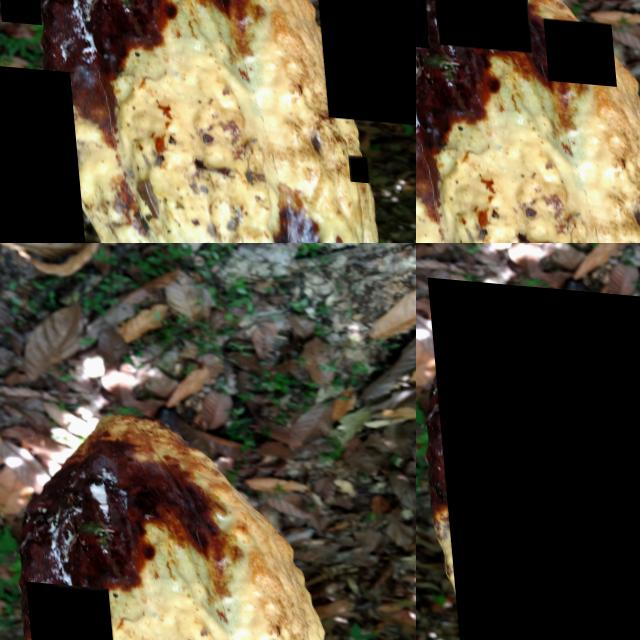Fitoftora: (0, 60, 77, 243), (308, 0, 416, 117), (538, 11, 611, 78)
Monilia: (423, 273, 640, 640)
Sana: (19, 578, 108, 640), (423, 0, 526, 45), (573, 107, 640, 169), (0, 0, 35, 21), (340, 146, 360, 173), (416, 0, 424, 43)
